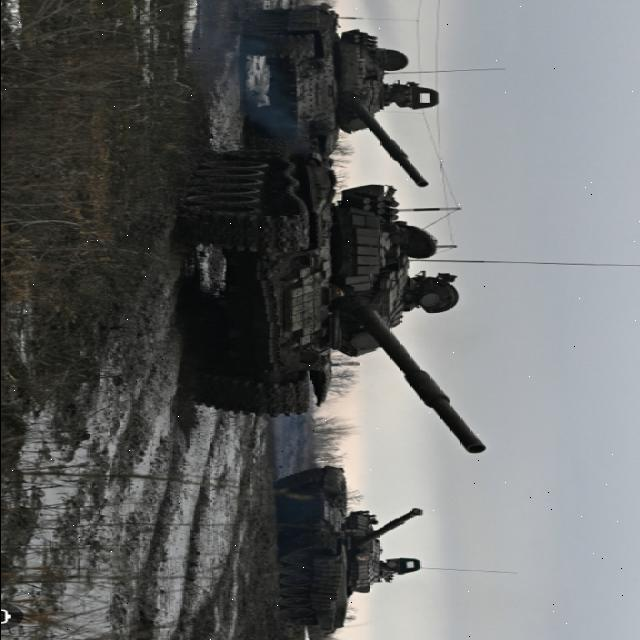TANK: (172, 148, 488, 456), (243, 5, 434, 187), (276, 462, 426, 634)
